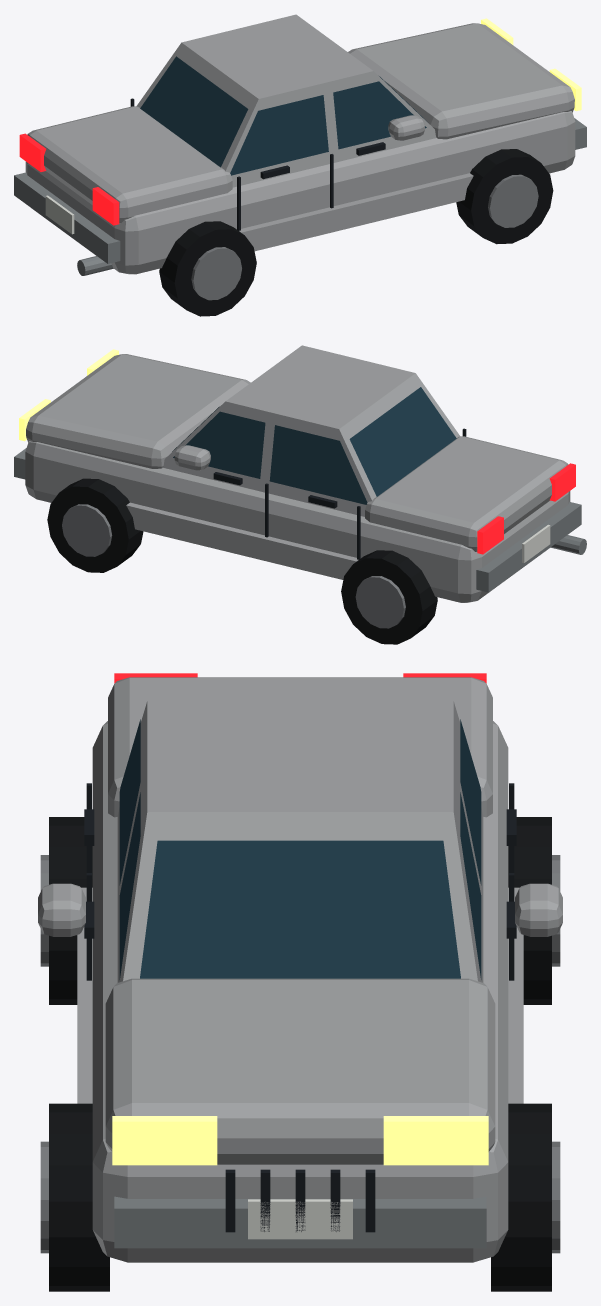
File: Stage4.glb
The picture shows the model from 3 angles, top to bottom: view 1: azimuth 30°, elevation 25°; view 2: azimuth 150°, elevation 25°; view 3: azimuth 270°, elevation 25°; orthographic projection. The views are drawn at different scales.
Visible parts, largest first — view 1: LowerBody.003, CabinShell.003, Hood.003, Trunk.003, SideWindows.001, RearWindow.002, RockerPanels.003, Tire_-1.55_-1.004, Tire_1.55_-1.003, Bumpers.002, Rim_-1.55_-1.004, Rim_1.55_-1.003 (+7 smaller); view 2: LowerBody.003, CabinShell.003, Hood.003, Trunk.003, SideWindows.001, RearWindow.002, RockerPanels.003, Tire_-1.55_1.004, Tire_1.55_1.004, Bumpers.002, Rim_-1.55_1.004, Rim_1.55_1.004 (+7 smaller); view 3: Hood.003, CabinShell.003, Windshield.003, LowerBody.003, Trunk.003, Bumpers.002, Headlights, Tire_1.55_-1.003, Tire_1.55_1.004, SideWindows.001, RockerPanels.003, Tire_-1.55_-1.004 (+10 smaller).
Boxes of the visible parts, x1,y1,x2,y2 form: LowerBody.003: (25, 111, 575, 274); CabinShell.003: (136, 14, 436, 187); Hood.003: (348, 23, 574, 139); Trunk.003: (27, 106, 232, 222); SideWindows.001: (230, 81, 426, 175); RearWindow.002: (140, 56, 248, 167); RockerPanels.003: (239, 173, 473, 251); Tire_-1.55_-1.004: (159, 221, 256, 316); Tire_1.55_-1.003: (456, 149, 553, 244); Bumpers.002: (14, 118, 586, 263); Rim_-1.55_-1.004: (191, 247, 241, 300); Rim_1.55_-1.003: (488, 174, 538, 227); LowerBody.003: (25, 441, 570, 602); CabinShell.003: (163, 345, 460, 516); Hood.003: (26, 354, 250, 468); Trunk.003: (365, 436, 568, 551); SideWindows.001: (173, 411, 367, 504); RearWindow.002: (349, 387, 456, 496); RockerPanels.003: (126, 502, 358, 579); Tire_-1.55_1.004: (341, 550, 437, 644); Tire_1.55_1.004: (47, 478, 143, 572); Bumpers.002: (14, 448, 581, 592); Rim_-1.55_1.004: (355, 576, 405, 628); Rim_1.55_1.004: (62, 504, 112, 556); Hood.003: (105, 978, 495, 1164); CabinShell.003: (117, 701, 483, 982); Windshield.003: (140, 840, 460, 978); LowerBody.003: (92, 721, 508, 1262); Trunk.003: (108, 677, 492, 817); Bumpers.002: (114, 1196, 486, 1248); Headlights: (112, 1116, 488, 1165); Tire_1.55_-1.003: (49, 1103, 109, 1291); Tire_1.55_1.004: (491, 1103, 551, 1291); SideWindows.001: (119, 719, 481, 979); RockerPanels.003: (77, 887, 523, 1103); Tire_-1.55_-1.004: (49, 817, 92, 1004).
Size of the model in its own units: 5.18 by 1.82 by 2.4.
